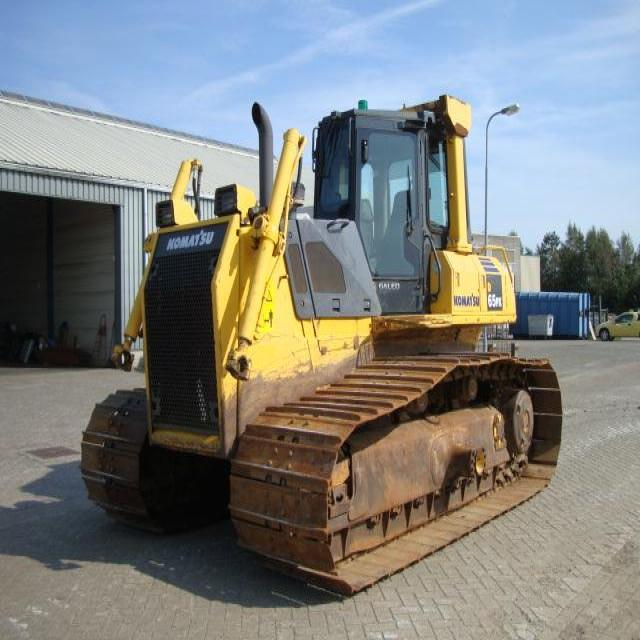buldozerpayloadergrader: (75, 55, 584, 600)
